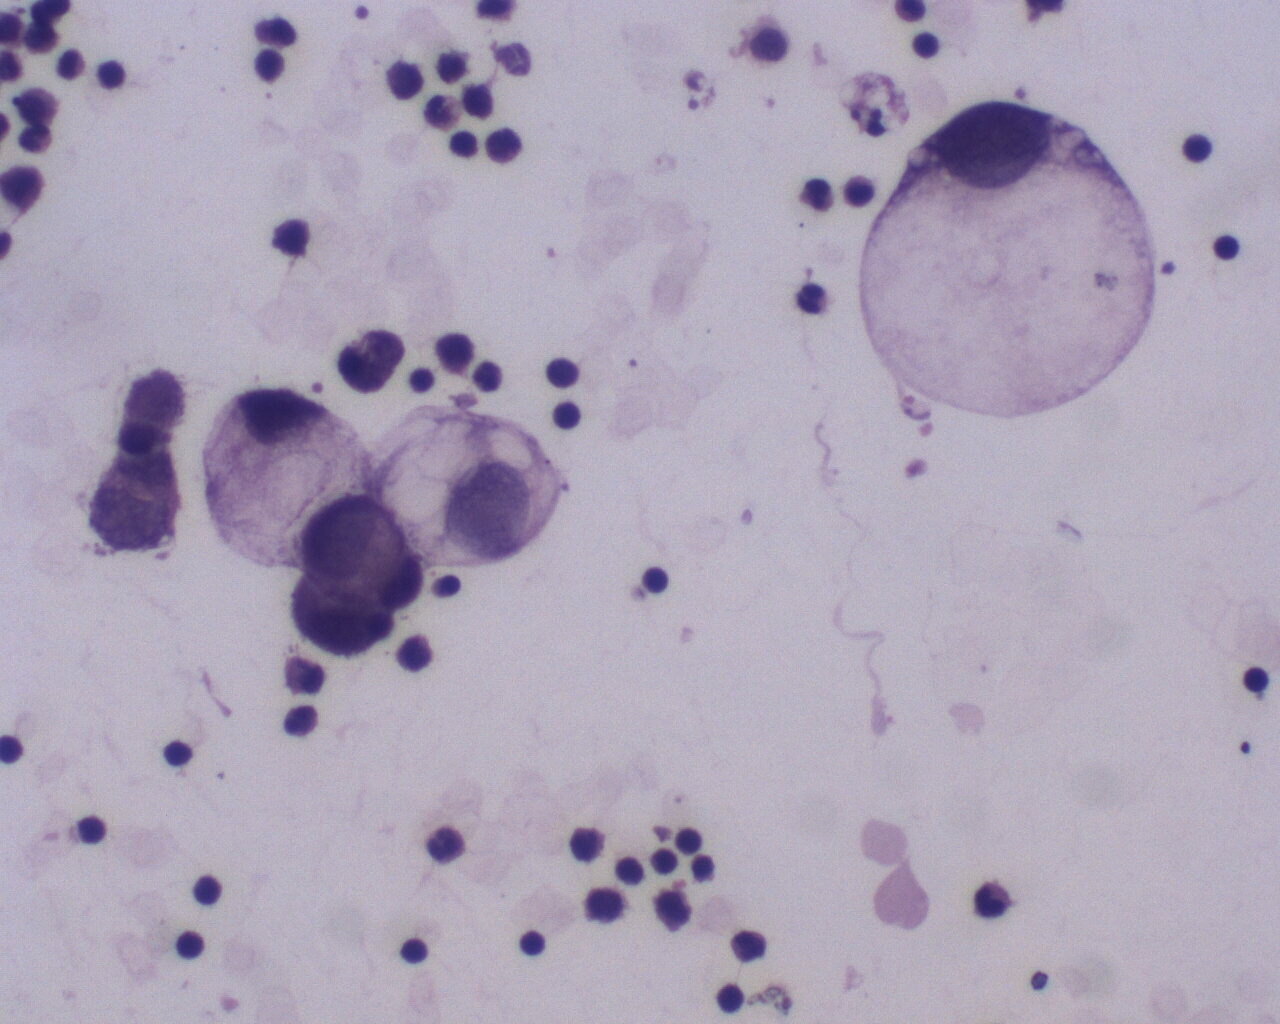ab: (286, 493, 421, 658)
histo: (855, 98, 1166, 426), (202, 386, 370, 576), (379, 396, 560, 567)
lymph: (637, 560, 677, 607), (1178, 127, 1217, 169), (159, 737, 200, 776), (545, 354, 588, 391), (73, 806, 108, 851), (713, 977, 748, 1018), (188, 871, 225, 910), (1241, 658, 1274, 701), (911, 27, 947, 66), (553, 394, 586, 430), (174, 928, 207, 965), (1210, 230, 1242, 267), (399, 933, 432, 970), (519, 924, 551, 961), (671, 824, 706, 857), (614, 853, 646, 889)
neutro: (965, 876, 1017, 922), (424, 822, 469, 863), (796, 280, 834, 317)
